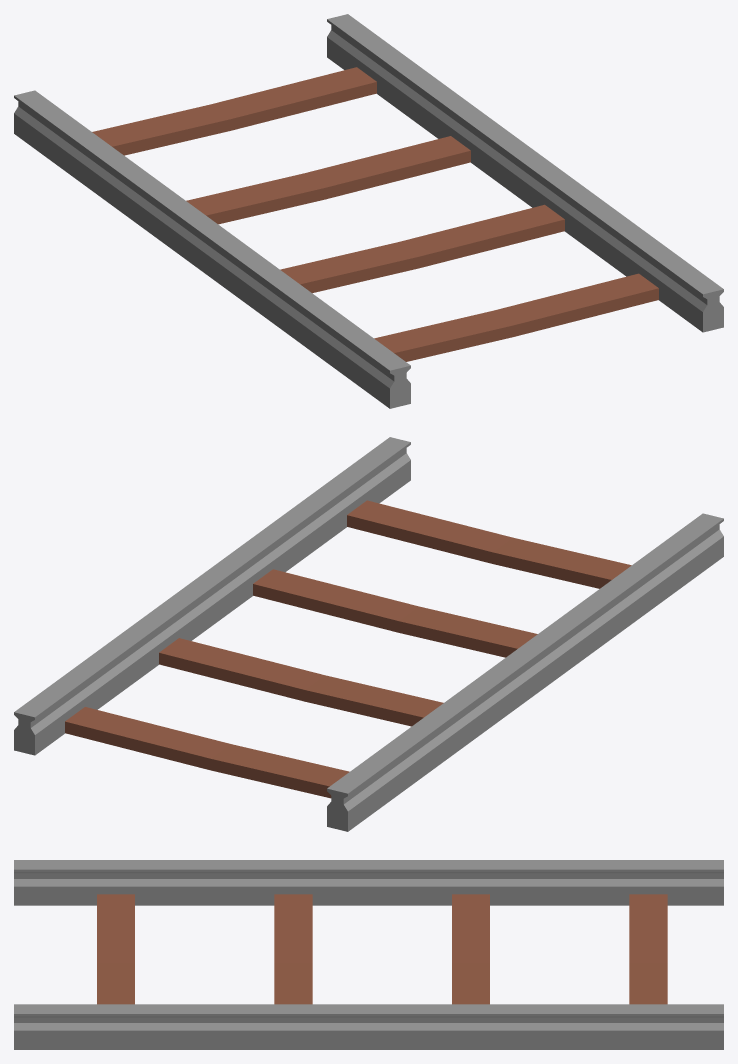
File: RailFlat.fbx
The picture shows the model from 3 angles, top to bottom: view 1: azimuth 30°, elevation 25°; view 2: azimuth 150°, elevation 25°; view 3: azimuth 270°, elevation 25°; orthographic projection. The views are drawn at different scales.
Visible parts, largest first — view 1: Cube; view 2: Cube; view 3: Cube.
Part boxes in pixels (x1,y1,x2,y2): Cube: (14, 14, 723, 408); Cube: (14, 437, 723, 831); Cube: (14, 860, 723, 1049).
Size of the model in its own units: 1048 by 118 by 2044.
